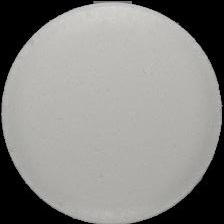33261-549: (0, 0, 224, 224)
